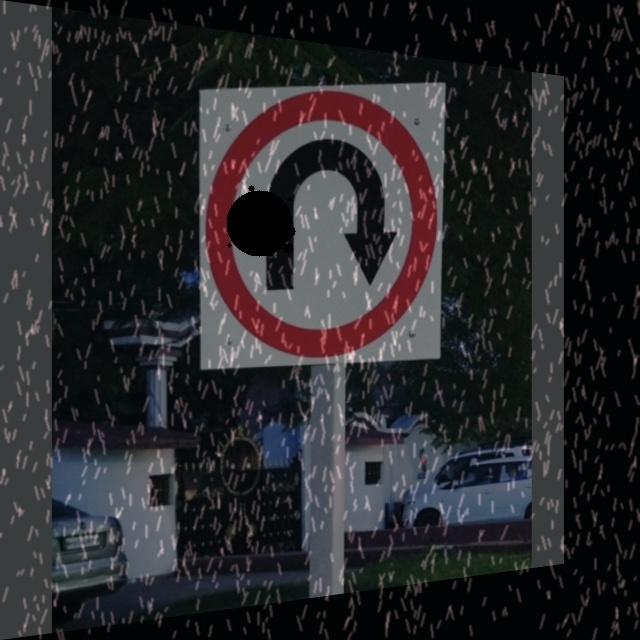U_Turn_Ahead: (195, 81, 440, 356)
